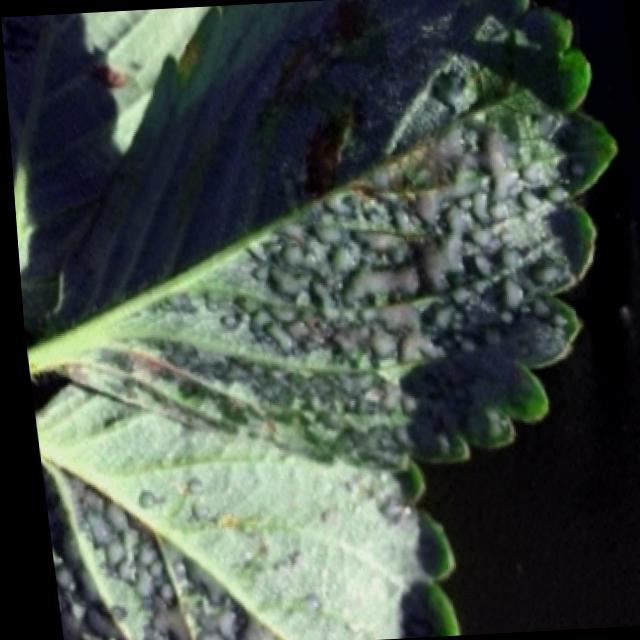Angular Leafspot: (35, 0, 616, 474), (28, 383, 450, 640), (1, 5, 212, 330)
